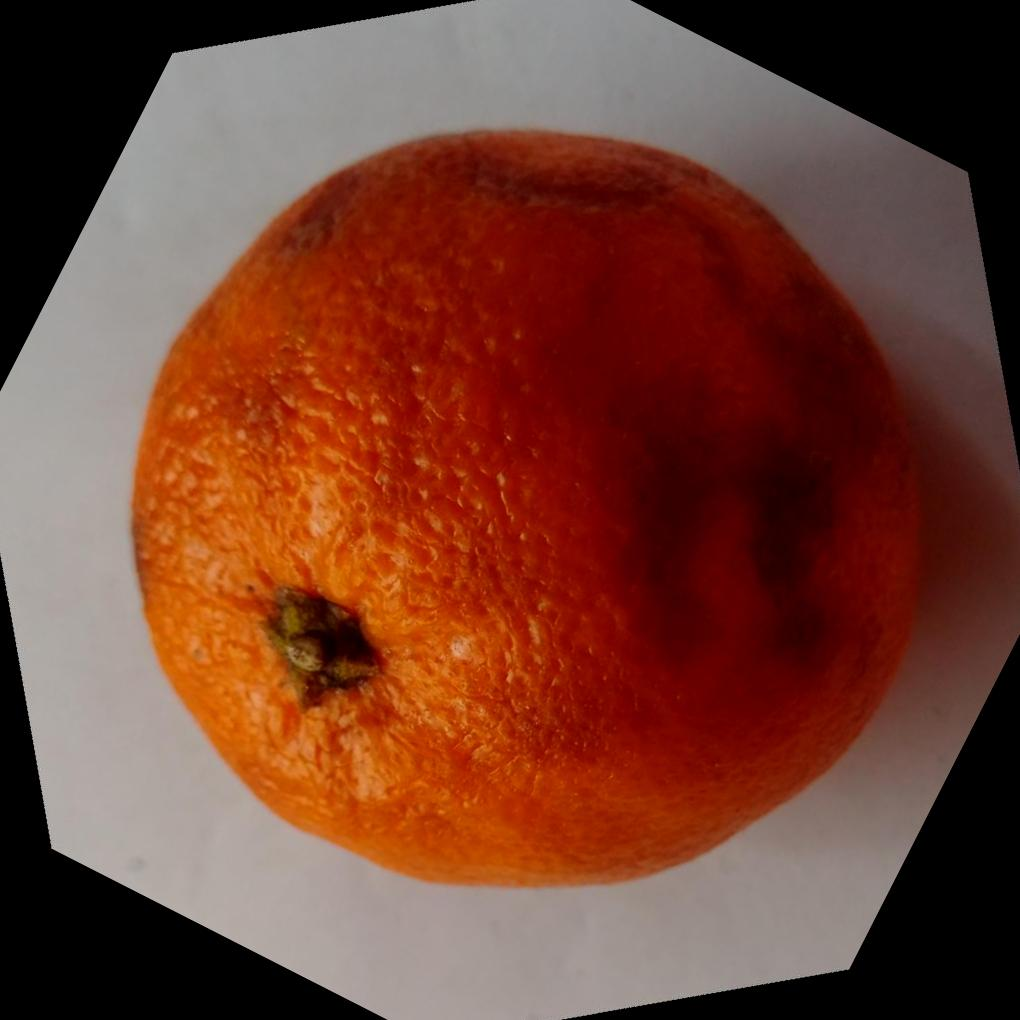FreshOrange: (130, 122, 929, 889)
